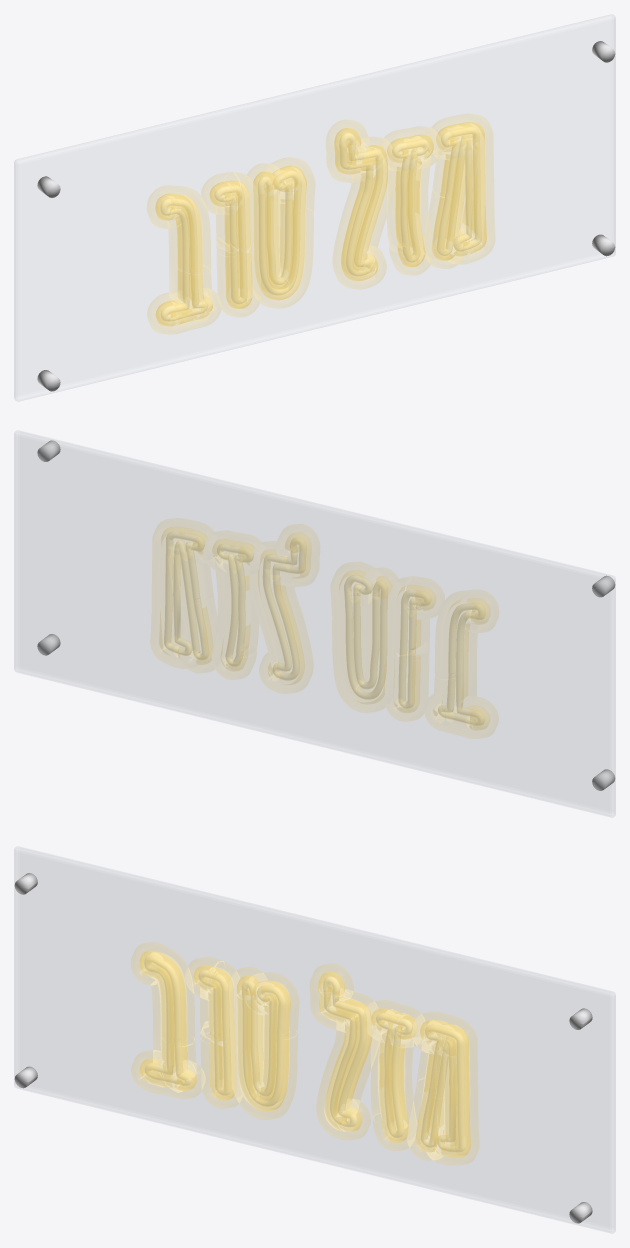
File: fx3d-neon-mazal.glb
The picture shows the model from 3 angles, top to bottom: view 1: azimuth 30°, elevation 25°; view 2: azimuth 150°, elevation 25°; view 3: azimuth 330°, elevation 25°; orthographic projection.
Parts seen in each view (by area): view 1: plate, neon-mazal-glow1, neon-mazal-glow0, neon-mazal-core; view 2: plate, neon-mazal-glow1, neon-mazal-core, neon-mazal-glow0; view 3: plate, neon-mazal-glow1, neon-mazal-glow0, neon-mazal-core.
Boxes of the visible parts, x1,y1,x2,y2 form: plate: (14, 14, 615, 401); neon-mazal-glow1: (147, 114, 495, 334); neon-mazal-glow0: (155, 122, 486, 326); neon-mazal-core: (160, 127, 481, 321); plate: (14, 430, 615, 817); neon-mazal-glow1: (151, 518, 498, 738); neon-mazal-core: (164, 531, 485, 725); neon-mazal-glow0: (159, 526, 490, 730); plate: (14, 846, 615, 1233); neon-mazal-glow1: (131, 942, 479, 1165); neon-mazal-glow0: (139, 950, 470, 1157); neon-mazal-core: (144, 955, 465, 1152).
Size of the model in its own units: 0.52 by 0.2 by 0.0274.
